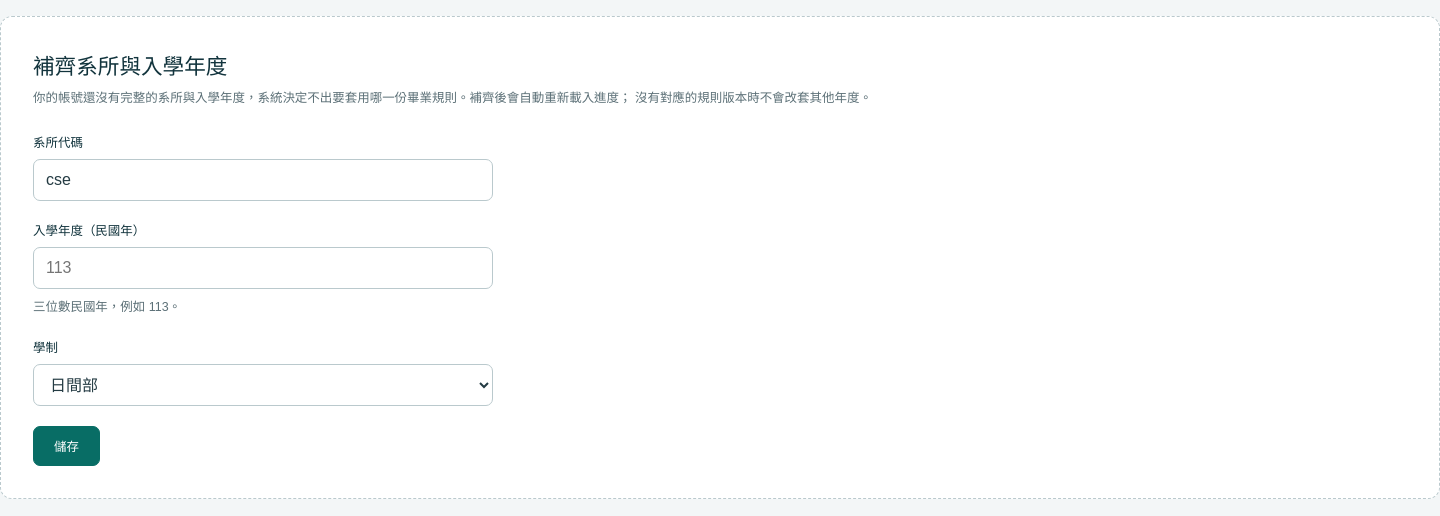
Test: ProfileForm（補齊系所／入學年度） › 入學年度不是三位數時在欄位旁提示，且不送出 PATCH
Type "99" into the field labelled "入學年度（民國年）" at (263, 268), box [33, 247, 493, 289]
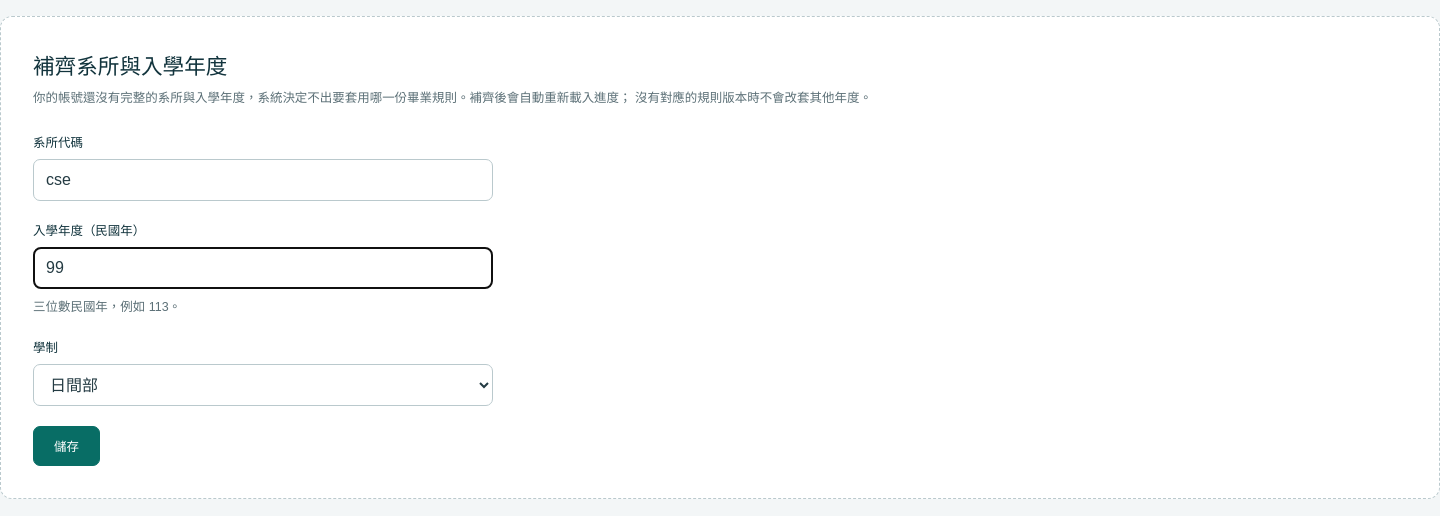
Click the button "儲存" at (66, 446), box [33, 426, 100, 466]
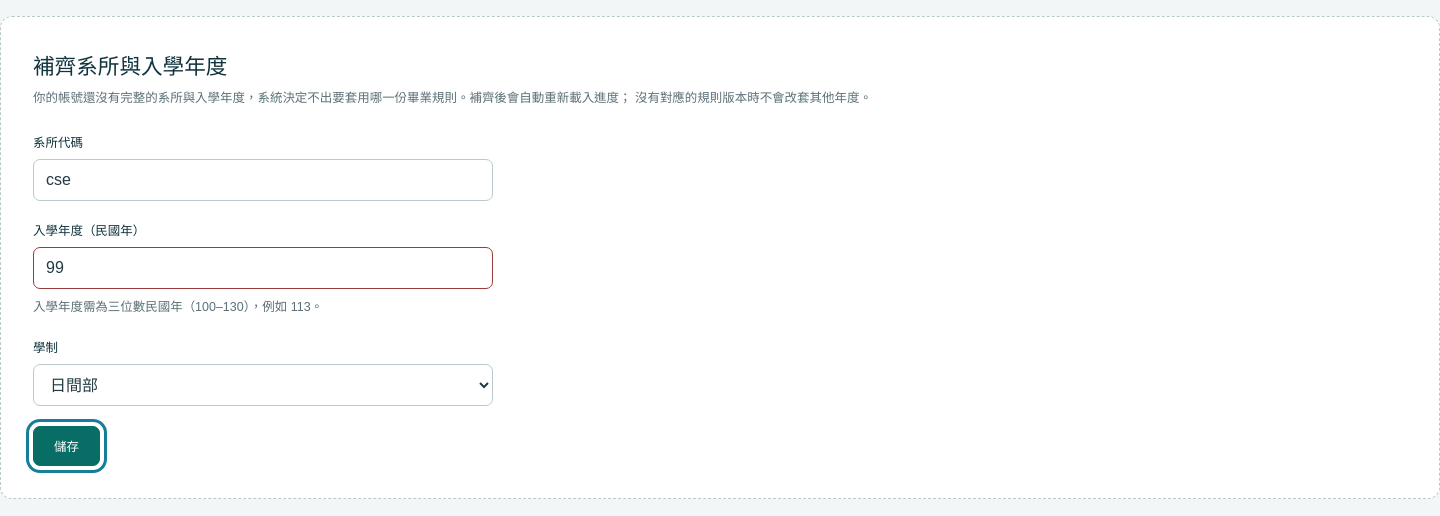
Check: the message shows "100–130", box [33, 300, 323, 314]
